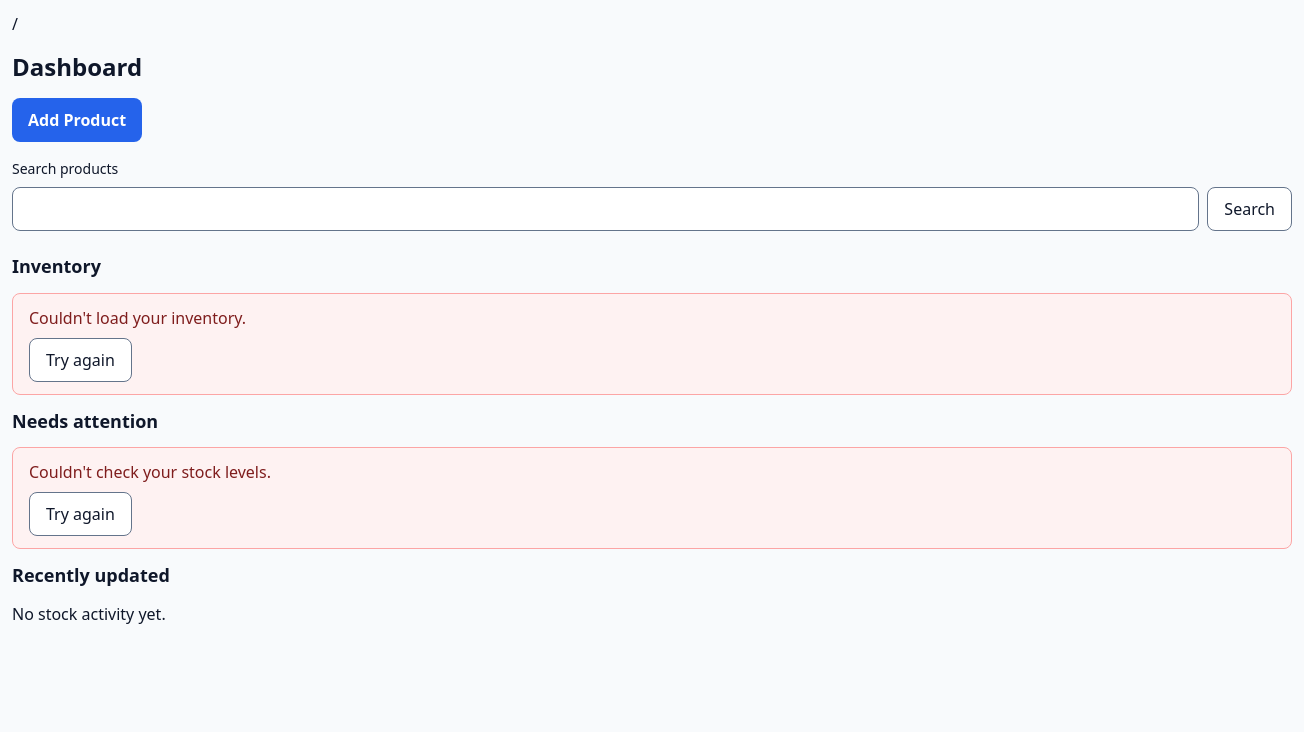
it: DashboardPage › error and retry › retry reloads the failed section and shows its content when it succeeds
Click the button "Try again" below "Couldn't load your inventory.": (80, 360) [29, 338, 132, 382]
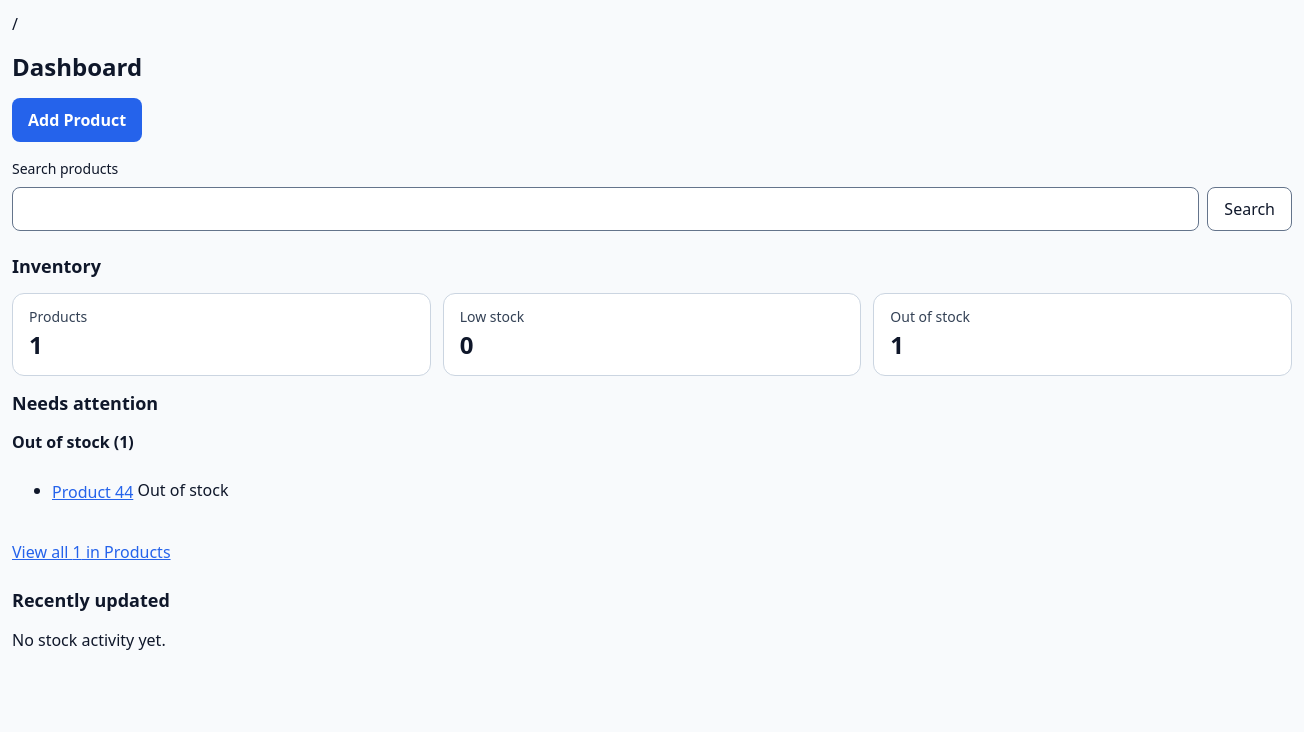
Check: the text "Products" is shown, box [29, 307, 87, 326]
Check: the message "Couldn't load your inventory. Try again" is gone
